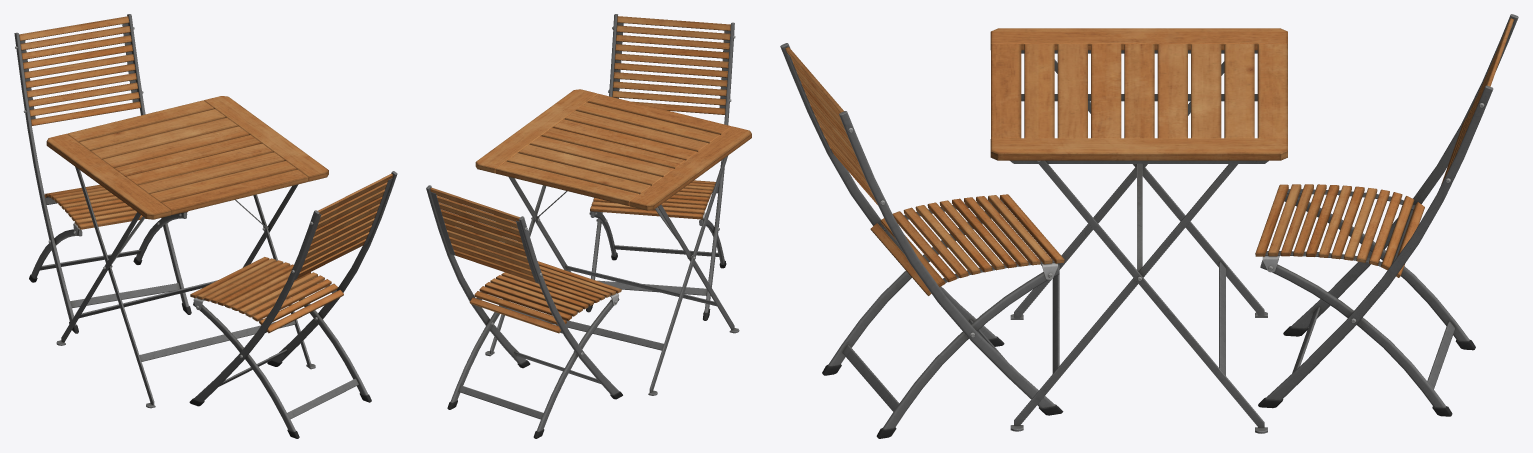
File: table.gltf
3 views of the same model, side by side, from view 1: azimuth 30°, elevation 25°; view 2: azimuth 150°, elevation 25°; view 3: azimuth 270°, elevation 25° (orthographic). The views are drawn at different scales.
Parts seen in each view (by area): view 1: outdoor_table_chair_set_01_table, outdoor_table_chair_set_01_chair_02, outdoor_table_chair_set_01_chair_01; view 2: outdoor_table_chair_set_01_table, outdoor_table_chair_set_01_chair_02, outdoor_table_chair_set_01_chair_01; view 3: outdoor_table_chair_set_01_table, outdoor_table_chair_set_01_chair_01, outdoor_table_chair_set_01_chair_02.
Part boxes in pixels (x1,y1,x2,y2): outdoor_table_chair_set_01_table: [46, 96, 328, 408]; outdoor_table_chair_set_01_chair_02: [14, 14, 191, 333]; outdoor_table_chair_set_01_chair_01: [189, 171, 397, 438]; outdoor_table_chair_set_01_table: [475, 89, 751, 395]; outdoor_table_chair_set_01_chair_02: [426, 185, 622, 438]; outdoor_table_chair_set_01_chair_01: [586, 14, 735, 320]; outdoor_table_chair_set_01_table: [990, 28, 1287, 433]; outdoor_table_chair_set_01_chair_01: [780, 43, 1064, 438]; outdoor_table_chair_set_01_chair_02: [1255, 14, 1518, 416].
Size of the model in its own units: 0.7417 by 0.8586 by 1.72.
2 materials, 2 textured.
